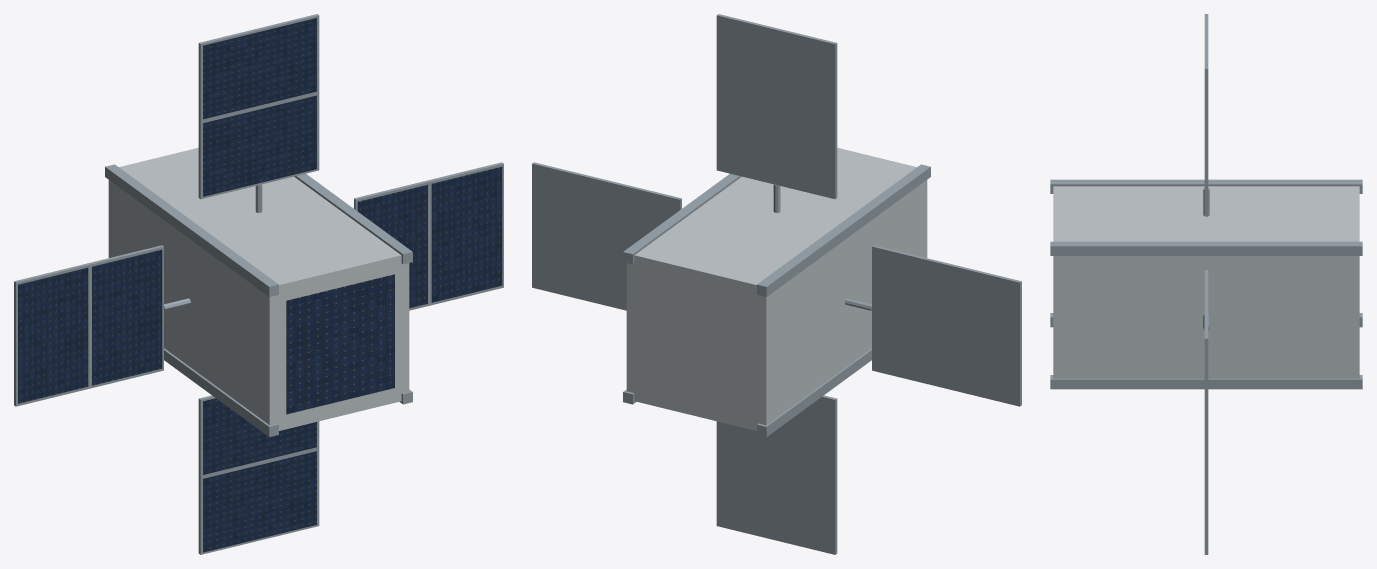
Rendered from ref-cubesat-8u-68472.glb.
3 renders of one model, left to right at view 1: azimuth 30°, elevation 25°; view 2: azimuth 150°, elevation 25°; view 3: azimuth 270°, elevation 25°, orthographic. The views are drawn at different scales.
Parts seen in each view (by area): view 1: Photovoltaic laminates (×8), Spacecraft body, Body-mounted cells, Array frame (×8), Dispenser rail (×3); view 2: Array frame (×8), Spacecraft body, Dispenser rail (×3); view 3: Spacecraft body, Dispenser rail (×3), Array frame (×2).
Part boxes in pixels (bbox=[...]): Photovoltaic laminates (×8): bbox=[18, 18, 502, 552]; Spacecraft body: bbox=[108, 147, 409, 430]; Body-mounted cells: bbox=[286, 274, 394, 414]; Array frame (×8): bbox=[14, 14, 503, 554]; Dispenser rail (×3): bbox=[105, 164, 412, 436]; Array frame (×8): bbox=[532, 14, 1021, 554]; Spacecraft body: bbox=[626, 147, 927, 430]; Dispenser rail (×3): bbox=[623, 164, 930, 436]; Spacecraft body: bbox=[1053, 186, 1359, 378]; Dispenser rail (×3): bbox=[1050, 179, 1362, 389]; Array frame (×2): bbox=[1204, 14, 1208, 456].
Size of the model in its own units: 0.7 by 0.7 by 0.408.
3 materials, 1 textured.
